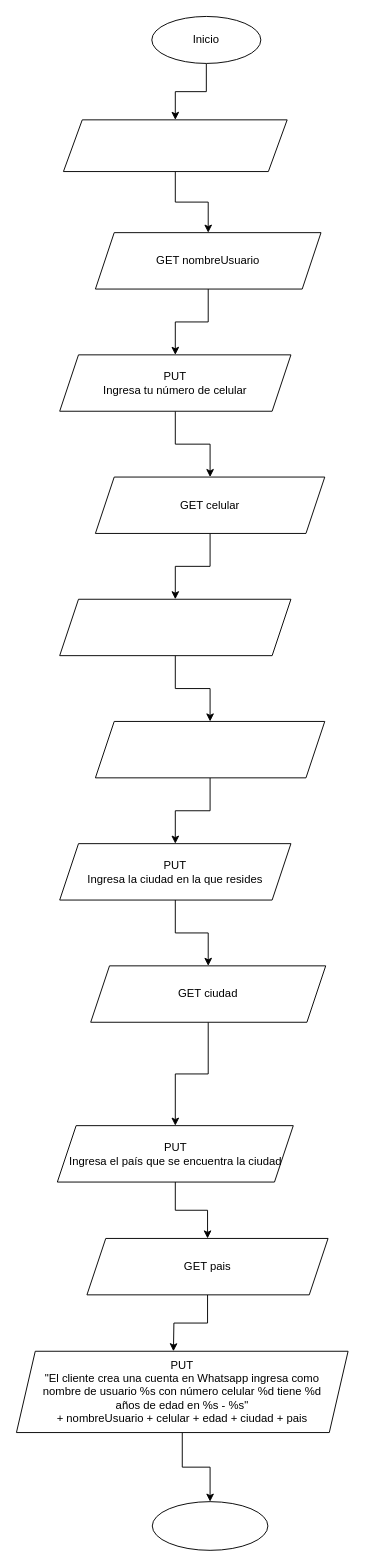
Image size: 365x1567. Some labels were removed from this diagram. Here are the shapes that lost their labels. From the top down, the centre of each, then its label:
(175,145): PUT Ingresa un nombre e usuario
(175,627): PUT Ingresa tu edad
(209,749): GET edad
(209,1525): Fin
